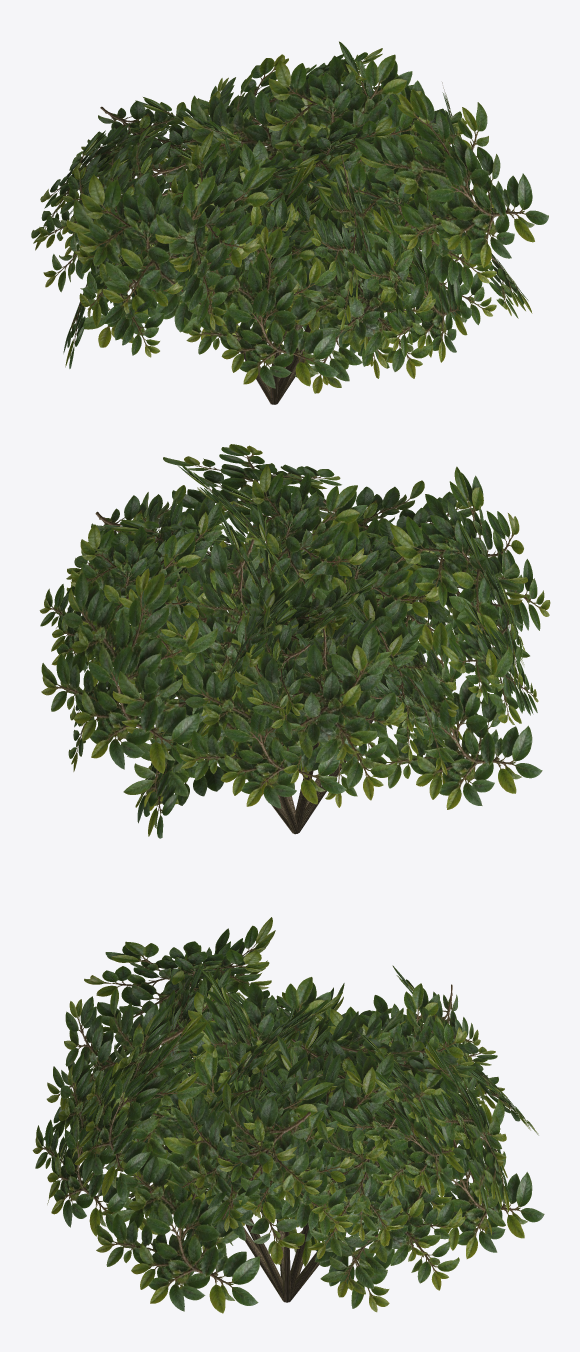
Rendered from shrub_02.glb.
The picture shows the model from 3 angles, top to bottom: view 1: azimuth 30°, elevation 25°; view 2: azimuth 150°, elevation 25°; view 3: azimuth 270°, elevation 25°; orthographic projection. The views are drawn at different scales.
Parts seen in each view (by area): view 1: shrub_02; view 2: shrub_02; view 3: shrub_02.
Boxes of the visible parts, left/top/right/bottom form: shrub_02: left=31, top=41, right=548, bottom=404; shrub_02: left=39, top=444, right=550, bottom=838; shrub_02: left=32, top=917, right=544, bottom=1313.
Size of the model in its own units: 2.34 by 1.66 by 2.39.
2 materials, 2 textured.
